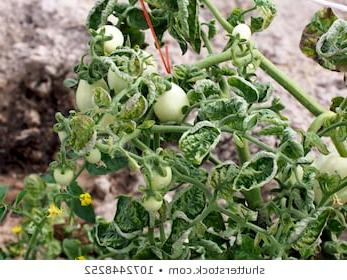Tomato leaf yellow virus: (175, 121, 225, 164), (231, 150, 278, 192), (172, 75, 221, 111), (68, 113, 96, 164), (195, 94, 245, 118), (208, 161, 244, 192)
